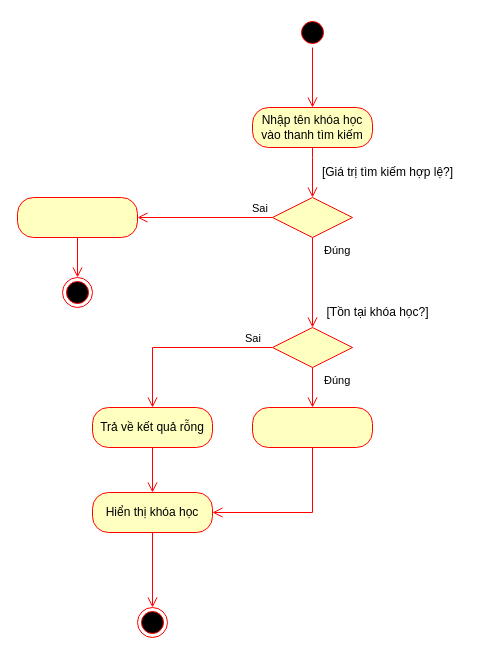
This 480x655 diagram has some shape labels left out. The box of each missing label's shape, as (x1, y1, x2, y2) in pixels:
Hiển thị thông báo lỗi: (16, 196, 138, 238)
Trả về kết quả: (252, 406, 372, 448)
